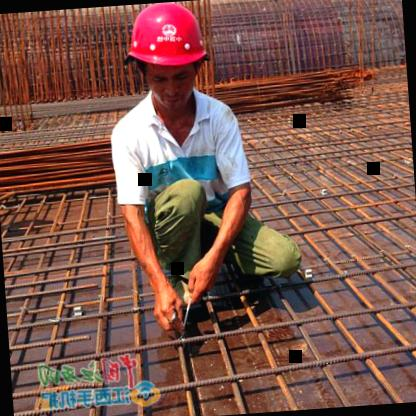helmet: (117, 0, 217, 124)
